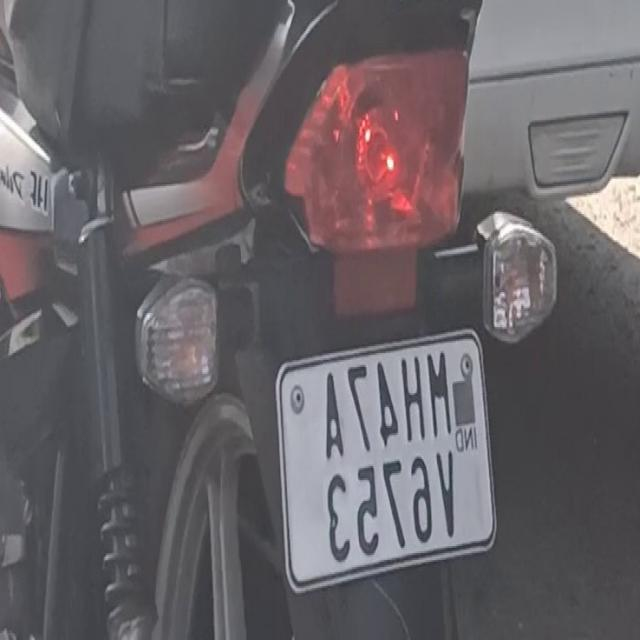license_plate: (274, 311, 499, 601)
